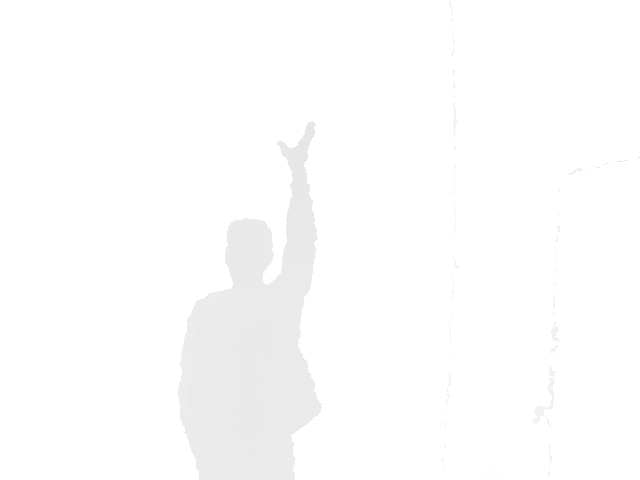hand: (276, 120, 317, 168)
head: (225, 219, 274, 288)
person: (176, 119, 323, 480)
